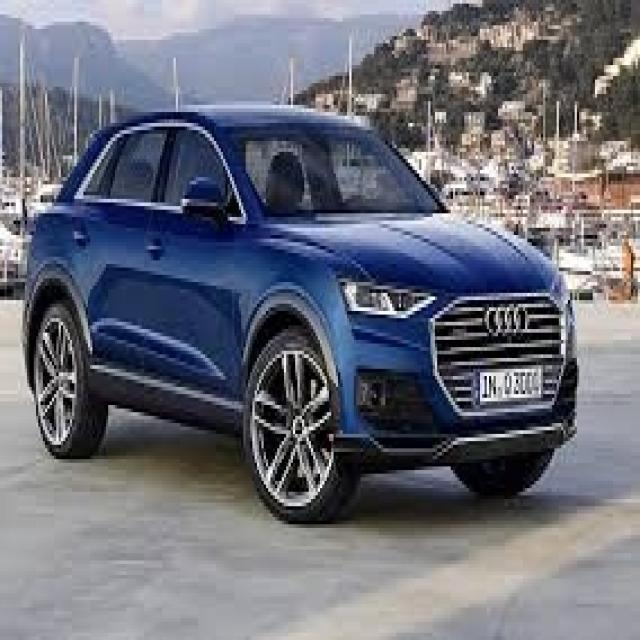blue: (25, 92, 586, 452)
